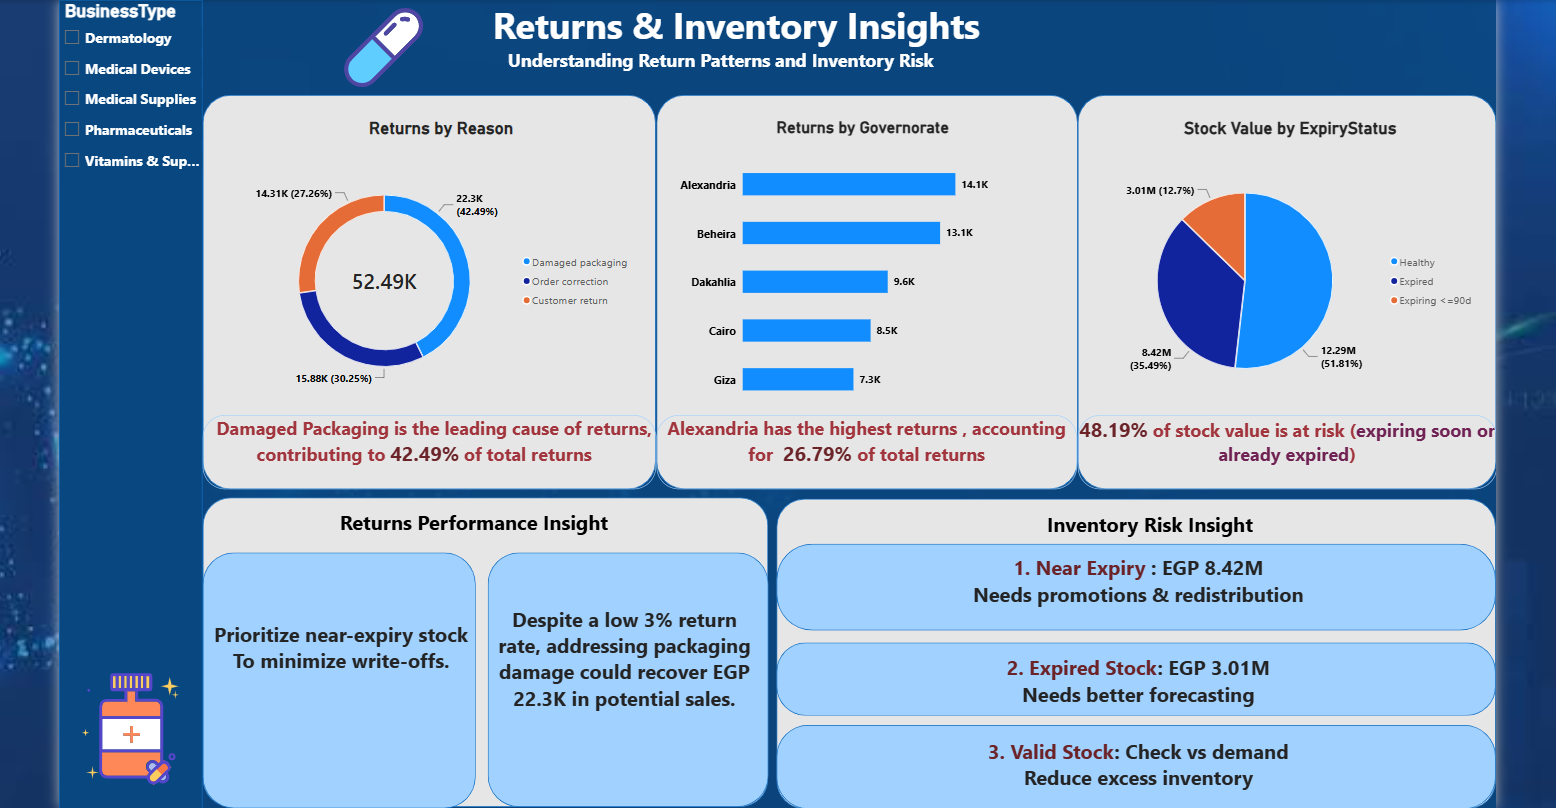

This screenshot's page, from the dashboard's own definition file:
{"tool":"powerbi","page":{"name":"Page 2","canvas":[1920,1080],"ordinal":1},"visuals":[{"type":"shape","box":[798.1,126.7,562.8,526.6],"z":5},{"type":"shape","box":[191.9,127.3,605.2,526.7],"z":6},{"type":"shape","box":[1360.9,126.7,559.2,526.6],"z":7},{"type":"shape","box":[191.9,664.5,755.2,413.4],"z":8},{"type":"shape","box":[959.1,666,960.9,414.4],"z":9},{"type":"textbox","box":[508.5,0,749.2,126.7],"z":11},{"type":"shape","box":[0,0,191.8,1080.4],"z":14},{"type":"textbox","box":[324.4,680.2,460.5,59.3],"z":16},{"type":"shape","box":[191.9,737.8,364.5,341.9],"z":24},{"type":"shape","box":[572.1,737.8,375,340.1],"z":25},{"type":"shape","box":[959.1,968.2,960.9,112.2],"z":26},{"type":"shape","box":[959.1,725.7,960.9,115.8],"z":27},{"type":"textbox","box":[1257.7,680.4,399.9,45.2],"z":28},{"type":"donutChart","title":"Returns by Reason","fields":{"Category":["FactReturns.ReturnReason"],"Y":["_measures_.Total Returnes"]},"box":[233.4,141.2,551.9,425.3],"z":29},{"type":"barChart","title":"Returns by Governorate","fields":{"Category":["DimCustomer.Governorate"],"Y":["_measures_.Total Returnes"]},"box":[810.7,141.2,523,425.3],"z":30},{"type":"pieChart","title":"Stock Value by ExpiryStatus","fields":{"Category":["InventorySnapshot.ExpiryStatus"],"Y":["_measures_.Total Stock Value"]},"box":[1373.5,141.2,539.3,425.3],"z":31},{"type":"textbox","box":[798.8,554.7,561.6,99.4],"z":32},{"type":"textbox","box":[191.9,554.7,605.2,99.4],"z":33},{"type":"textbox","box":[1360.5,554.7,559.9,99.4],"z":34},{"type":"textbox","box":[575.5,808.9,358.3,159.3],"z":35},{"type":"textbox","box":[1140.1,740.2,602.6,101.3],"z":36},{"type":"shape","box":[959.1,857.8,960.9,97.7],"z":37},{"type":"textbox","box":[1140.1,874.1,602.6,81.4],"z":38},{"type":"textbox","box":[1140.1,984.5,602.6,94.1],"z":39},{"type":"textbox","box":[197.1,828.5,359.3,155.2],"z":40},{"type":"slicer","fields":{"Values":["DimCategory.BusinessType"]},"box":[0,0,191.4,277.9],"z":41},{"type":"image","box":[359.3,0,150.2,126.7],"z":42},{"type":"image","box":[0,859.6,191.8,220.8],"z":43}]}

Visuals, with their boxes on the page's 1920x1080 design canvas (x1, y1, x2, y2). These are canvas units, not pixel positions in the 1556x808 screenshot, which may show the page scaled, cropped or inside an application window:
shape: left=798, top=127, right=1361, bottom=653
shape: left=192, top=127, right=797, bottom=654
shape: left=1361, top=127, right=1920, bottom=653
shape: left=192, top=664, right=947, bottom=1078
shape: left=959, top=666, right=1920, bottom=1080
textbox: left=508, top=0, right=1258, bottom=127
shape: left=0, top=0, right=192, bottom=1080
textbox: left=324, top=680, right=785, bottom=740
shape: left=192, top=738, right=556, bottom=1080
shape: left=572, top=738, right=947, bottom=1078
shape: left=959, top=968, right=1920, bottom=1080
shape: left=959, top=726, right=1920, bottom=842
textbox: left=1258, top=680, right=1658, bottom=726
"Returns by Reason" donutChart: left=233, top=141, right=785, bottom=566
"Returns by Governorate" barChart: left=811, top=141, right=1334, bottom=566
"Stock Value by ExpiryStatus" pieChart: left=1374, top=141, right=1913, bottom=566
textbox: left=799, top=555, right=1360, bottom=654
textbox: left=192, top=555, right=797, bottom=654
textbox: left=1360, top=555, right=1920, bottom=654
textbox: left=576, top=809, right=934, bottom=968
textbox: left=1140, top=740, right=1743, bottom=842
shape: left=959, top=858, right=1920, bottom=956
textbox: left=1140, top=874, right=1743, bottom=956
textbox: left=1140, top=984, right=1743, bottom=1079
textbox: left=197, top=828, right=556, bottom=984
slicer - DimCategory.BusinessType: left=0, top=0, right=191, bottom=278
image: left=359, top=0, right=510, bottom=127
image: left=0, top=860, right=192, bottom=1080
